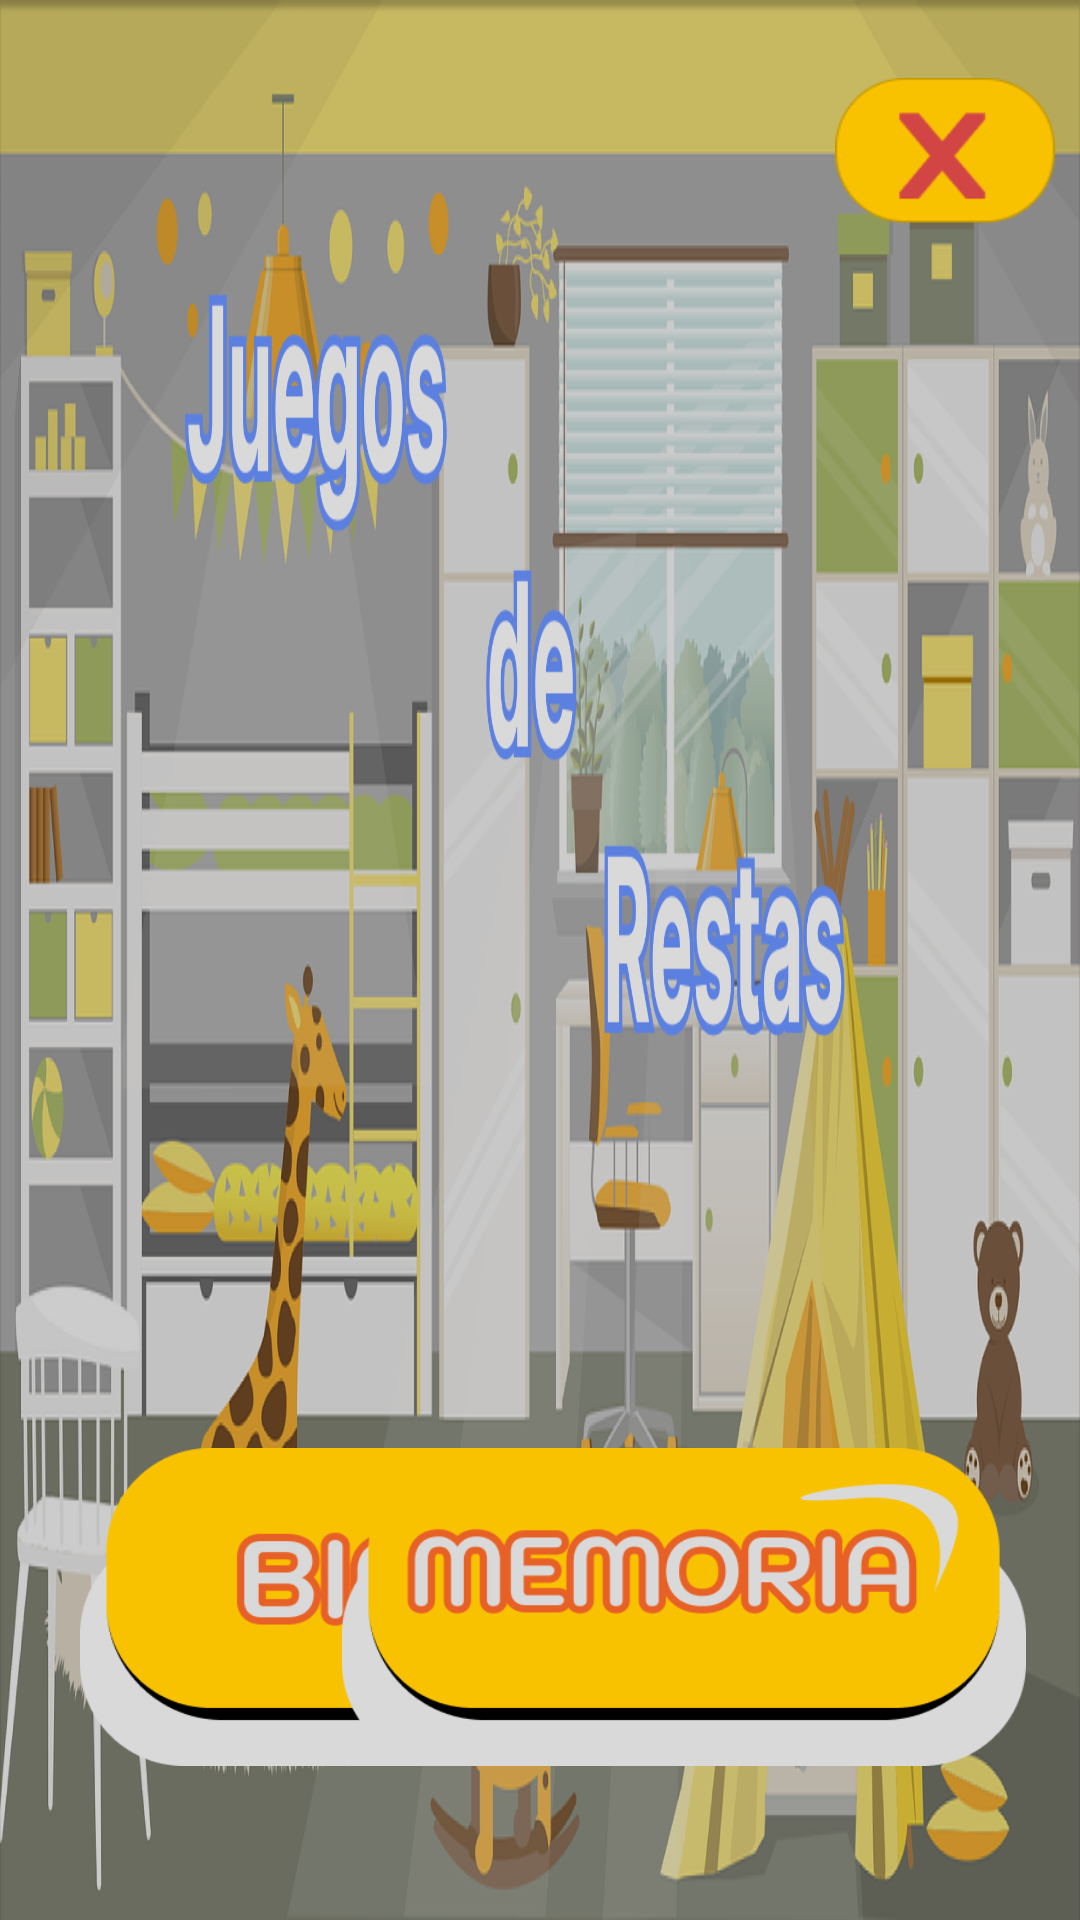

Where to tap for icons on this 1080px×1920px app screen, as (x=x, y=y):
botonsalir: (x=945, y=153)
